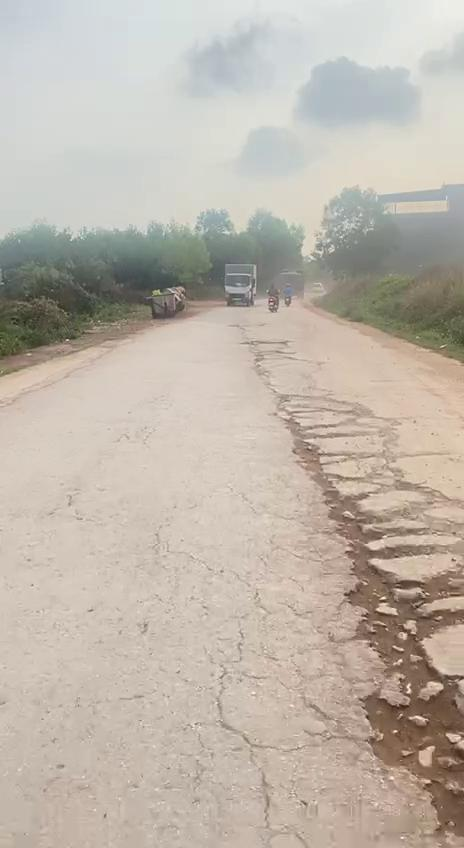pothole: (285, 446, 464, 834)
